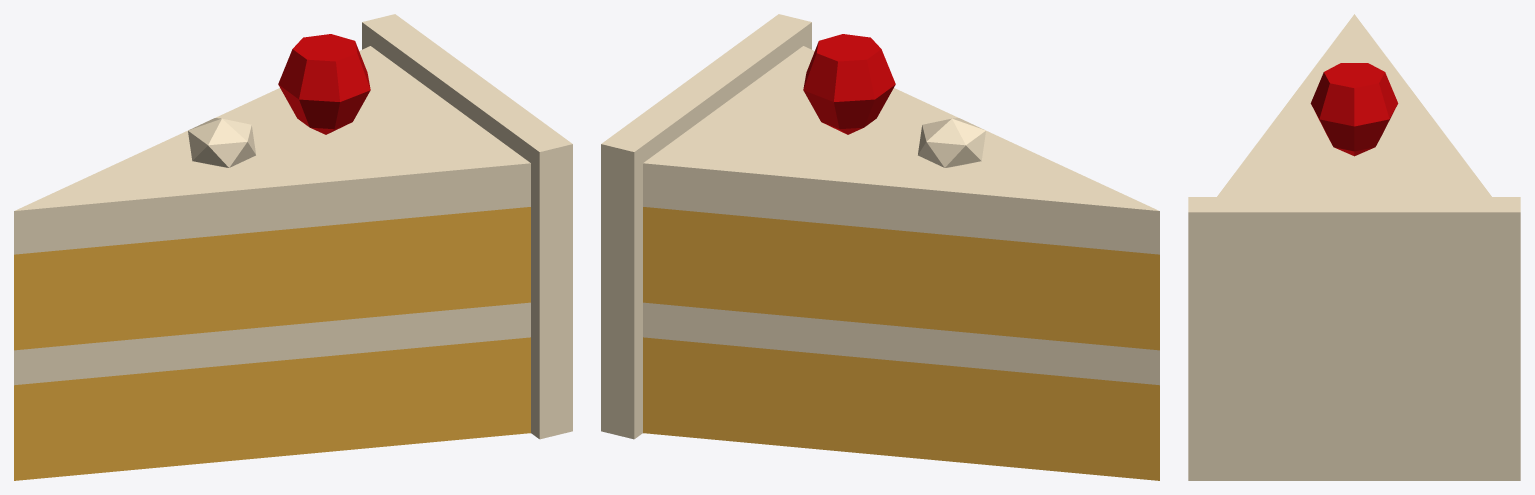
The model's file is cake_slice.obj.
The picture shows the model from 3 angles, left to right: view 1: azimuth 30°, elevation 25°; view 2: azimuth 150°, elevation 25°; view 3: azimuth 270°, elevation 25°; orthographic projection. The views are drawn at different scales.
Parts seen in each view (by area): view 1: cake_slice; view 2: cake_slice; view 3: cake_slice.
Part boxes in pixels (x1,y1,x2,y2): cake_slice: (14,14,572,480); cake_slice: (601,14,1159,480); cake_slice: (1188,14,1520,480).
Size of the model in its own units: 0.113 by 0.082 by 0.074.
